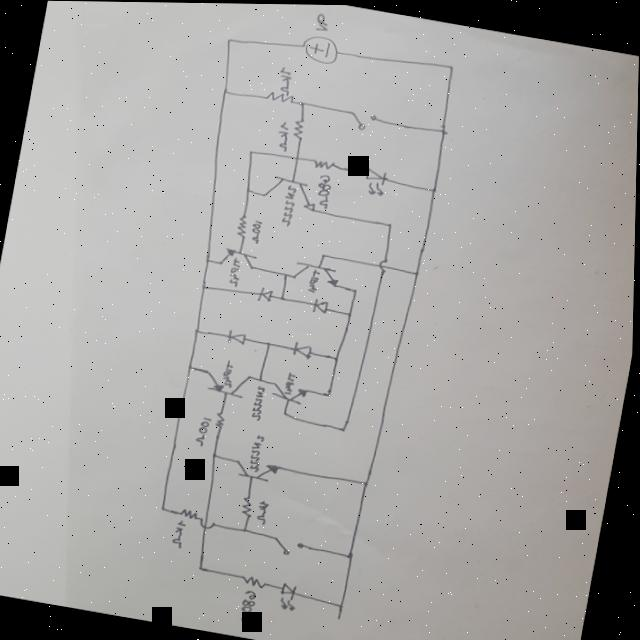crossover: (374, 255, 391, 274), (199, 515, 219, 530)
diode: (359, 165, 391, 199), (276, 580, 303, 611), (291, 339, 315, 360), (225, 327, 250, 347), (311, 295, 332, 316), (256, 286, 275, 304)
junction: (360, 476, 375, 488), (197, 562, 211, 574), (344, 549, 359, 559), (329, 351, 342, 362), (438, 126, 451, 136), (337, 599, 349, 609), (338, 423, 350, 433), (245, 147, 257, 157), (159, 503, 169, 513), (210, 451, 221, 460), (282, 408, 293, 417), (324, 388, 335, 397), (412, 268, 423, 277), (429, 185, 440, 194), (240, 525, 251, 533), (384, 220, 395, 228), (185, 362, 194, 371), (221, 87, 230, 96), (345, 309, 355, 317), (445, 62, 455, 70), (193, 327, 204, 334), (264, 339, 275, 346), (204, 256, 213, 264), (293, 154, 302, 162), (200, 283, 210, 290), (297, 99, 307, 106), (352, 286, 361, 293), (319, 251, 328, 258), (224, 37, 233, 44), (257, 375, 265, 382), (278, 293, 286, 300), (282, 270, 290, 277), (244, 187, 252, 193)
resistor: (240, 572, 272, 591), (232, 211, 253, 239), (288, 115, 308, 142), (264, 88, 295, 104), (309, 156, 338, 172), (240, 494, 258, 518), (179, 506, 202, 521), (213, 410, 230, 430)
source: (298, 31, 341, 65)
switch: (271, 534, 309, 559), (345, 107, 378, 133)
text: (277, 183, 298, 227), (237, 588, 259, 628), (247, 430, 267, 473), (313, 172, 335, 207), (273, 65, 294, 96), (194, 415, 213, 449), (170, 517, 190, 549), (251, 383, 268, 420), (274, 118, 293, 151), (220, 360, 239, 389), (227, 255, 244, 287), (255, 497, 273, 525), (283, 368, 299, 397), (311, 11, 332, 32), (249, 217, 263, 245), (308, 268, 322, 293)
transistor: (258, 172, 321, 212), (202, 367, 253, 401), (293, 258, 342, 287), (232, 457, 283, 484), (269, 380, 310, 406), (219, 246, 258, 271)
